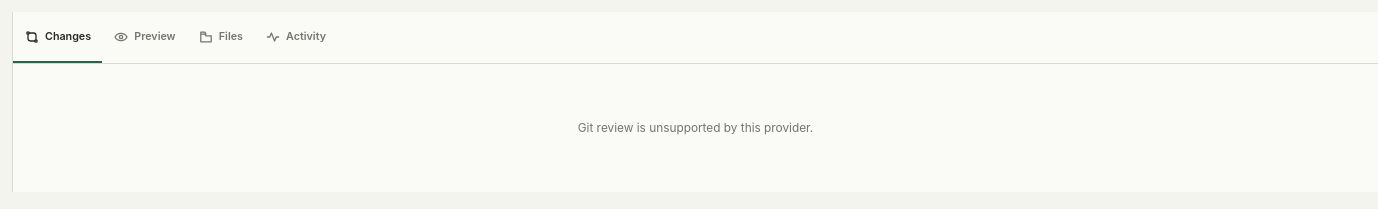
Scenario: application shell › gates unsupported context tools without issuing their requests
Expected: the text "Git review is unsupported by this provider." is shown, [578, 121, 813, 135]
Click the tab "Files" at (220, 38), box [187, 12, 254, 63]
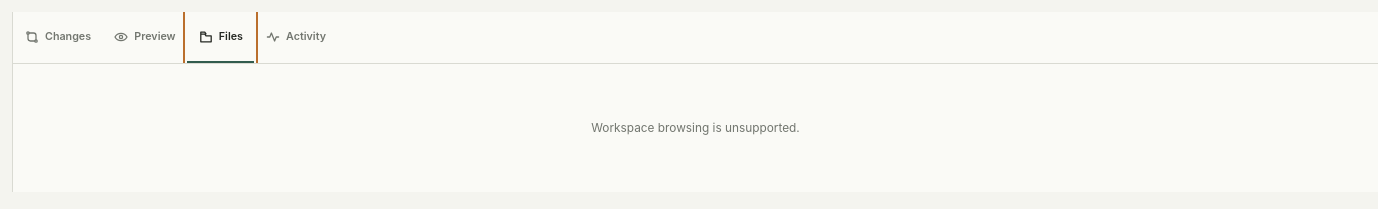
Expected: the text "Workspace browsing is unsupported." is shown, [591, 121, 800, 135]
